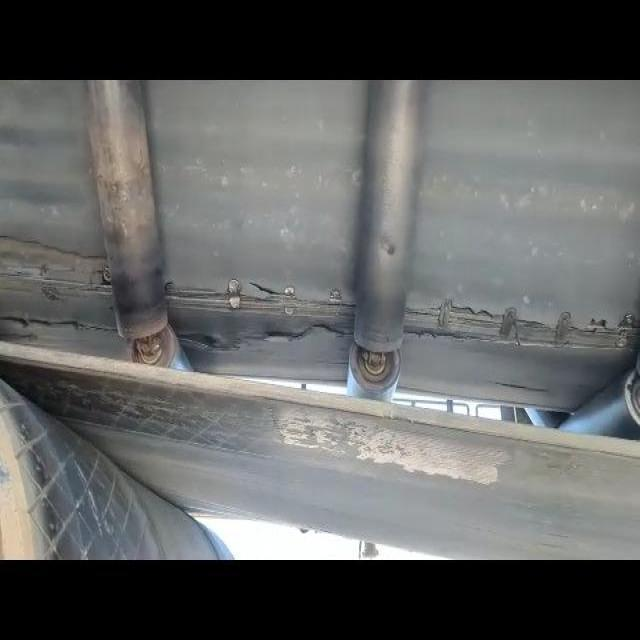Tear: (403, 296, 640, 366), (159, 272, 356, 353), (0, 222, 117, 351)
